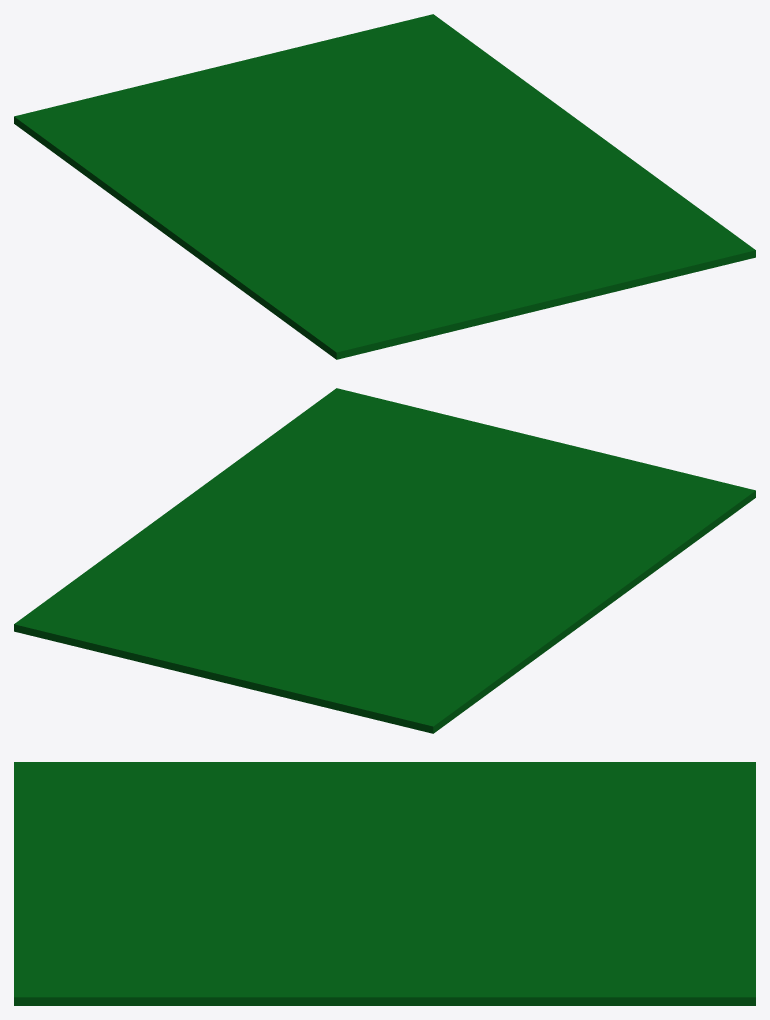
The model's file is Stairs_Floor_01_Snaps014.fbx.
3 renders of one model, top to bottom at view 1: azimuth 30°, elevation 25°; view 2: azimuth 150°, elevation 25°; view 3: azimuth 270°, elevation 25°, orthographic. The views are drawn at different scales.
Parts seen in each view (by area): view 1: Stairs_Floor_01_LOD00; view 2: Stairs_Floor_01_LOD00; view 3: Stairs_Floor_01_LOD00.
Boxes of the visible parts, left/top/right/bottom form: Stairs_Floor_01_LOD00: left=14, top=14, right=755, bottom=359; Stairs_Floor_01_LOD00: left=14, top=388, right=755, bottom=733; Stairs_Floor_01_LOD00: left=14, top=762, right=755, bottom=1005.
Size of what is drawn, in the model's own units: 600 by 10 by 799.
